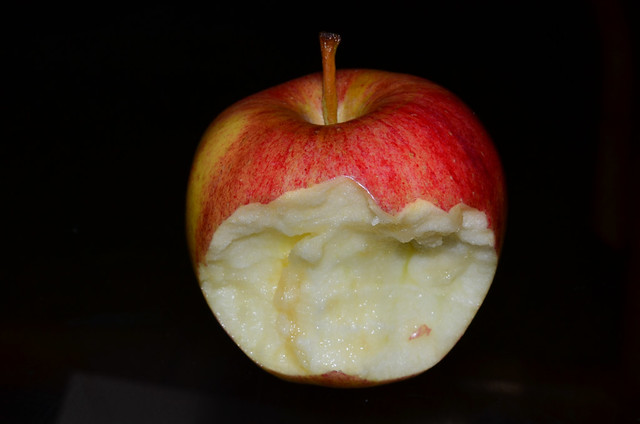apple: (181, 34, 512, 393)
